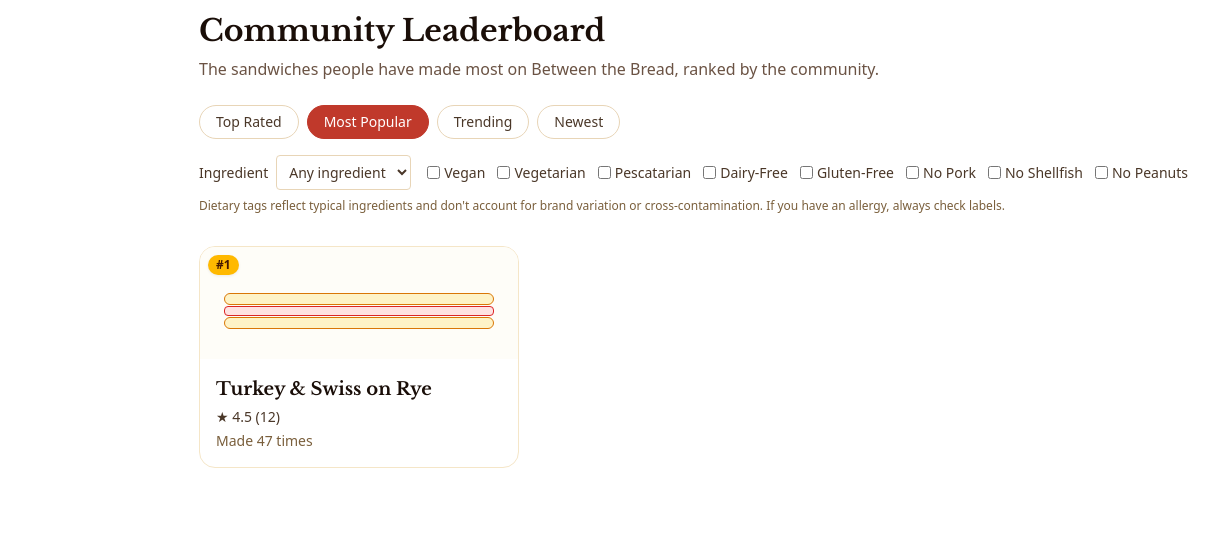
Test case: CommunityIndex sorting › re-ranks when another sort is picked and remembers it in the address
The width and height of the screenshot is (1205, 548).
Expected: the heading "Turkey & Swiss on Rye" is shown, [216,378,432,400]
Click the button "Top Rated".
click(249, 122)  # box [199,105,299,139]
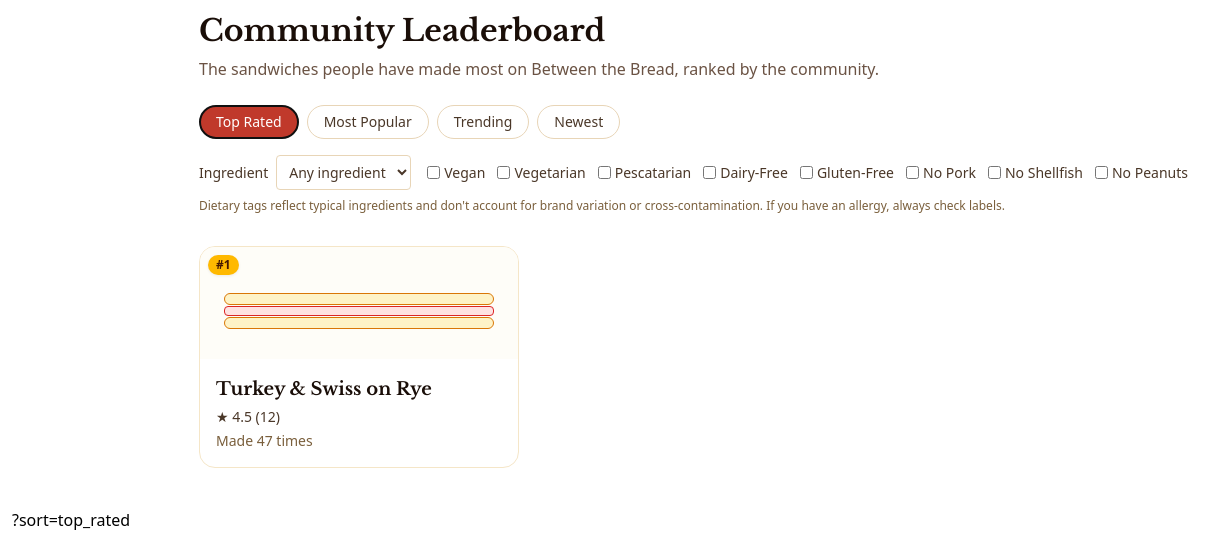
Expected: the text with test id "search" reads "?sort=top_rated", [12,509,130,531]
